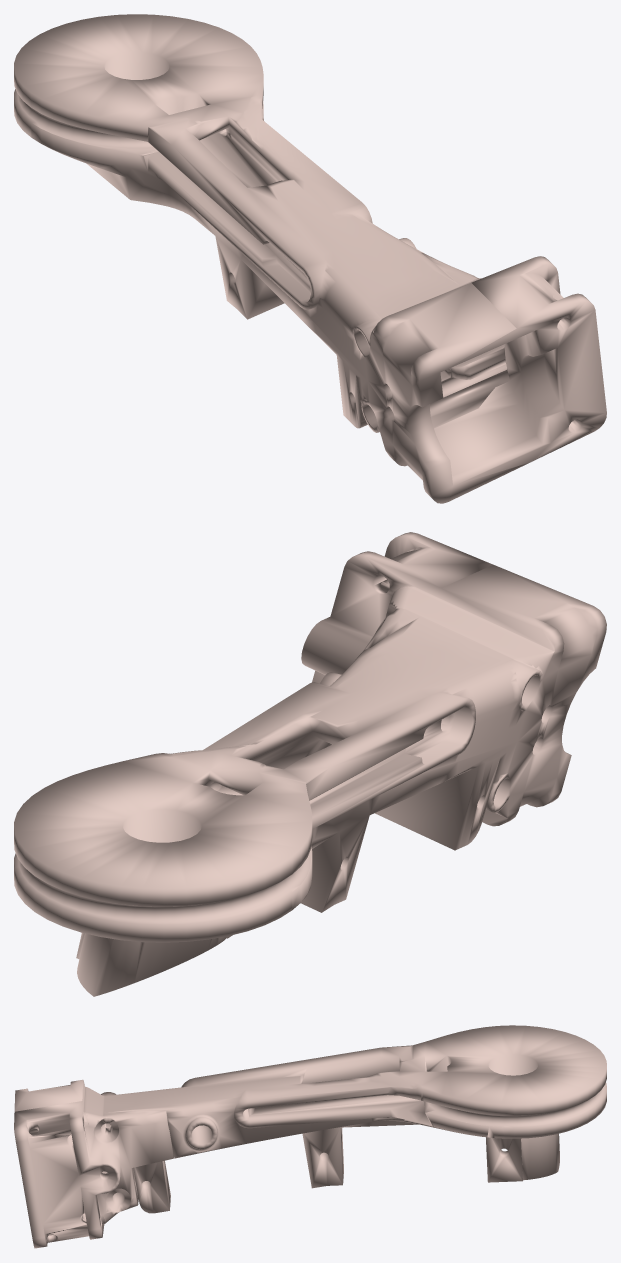
Rendered from pinky_bulk_1.obj.
3 views of the same model, one above another, from view 1: azimuth 30°, elevation 25°; view 2: azimuth 150°, elevation 25°; view 3: azimuth 270°, elevation 25° (orthographic). The views are drawn at different scales.
Size of the model in its own units: 36.74 by 27.9 by 94.75.
